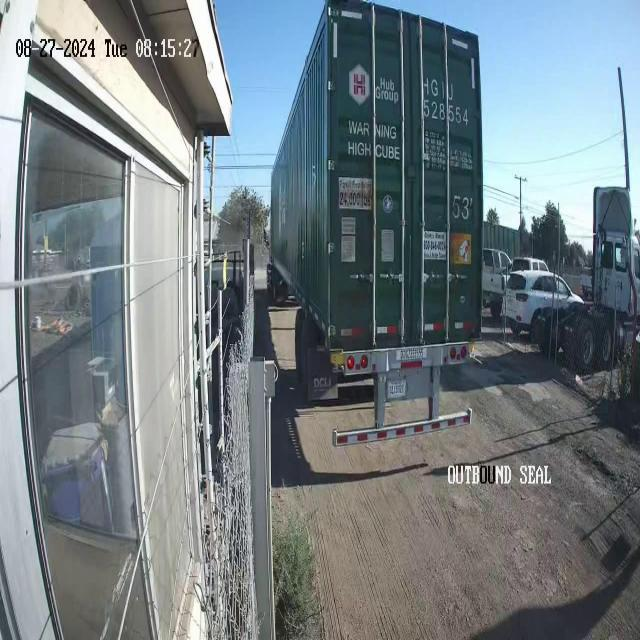TRUCK_OUT: (268, 1, 484, 431)
